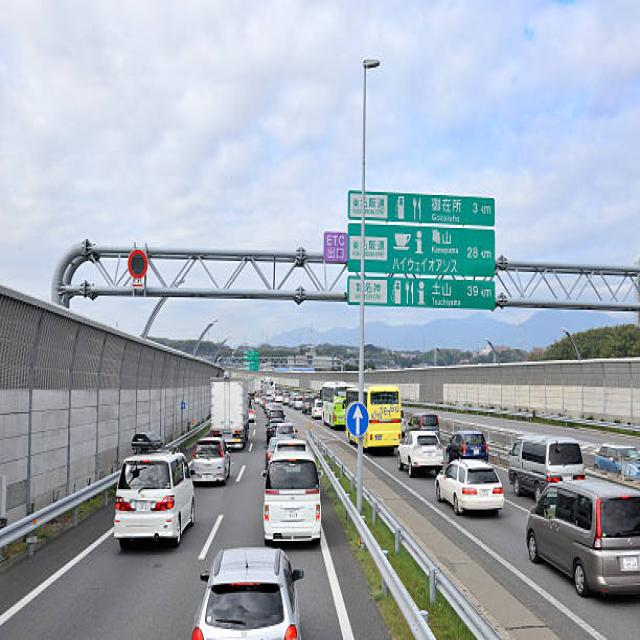moderate_traffic: (354, 362, 640, 637), (110, 381, 322, 640)
